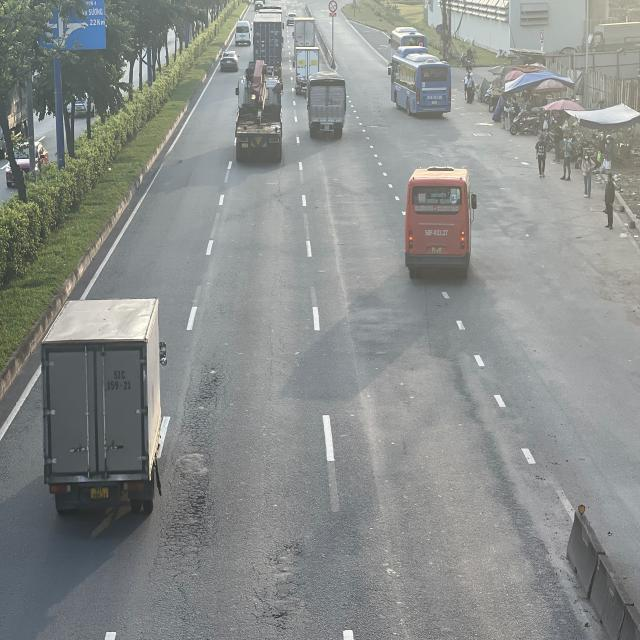car: (219, 52, 239, 74)
coach: (389, 51, 451, 115)
container: (254, 12, 285, 82)
truck: (35, 298, 163, 516), (234, 63, 282, 164), (310, 72, 349, 136), (292, 46, 321, 94), (294, 17, 315, 48)
van: (405, 168, 475, 280), (235, 21, 252, 47)
